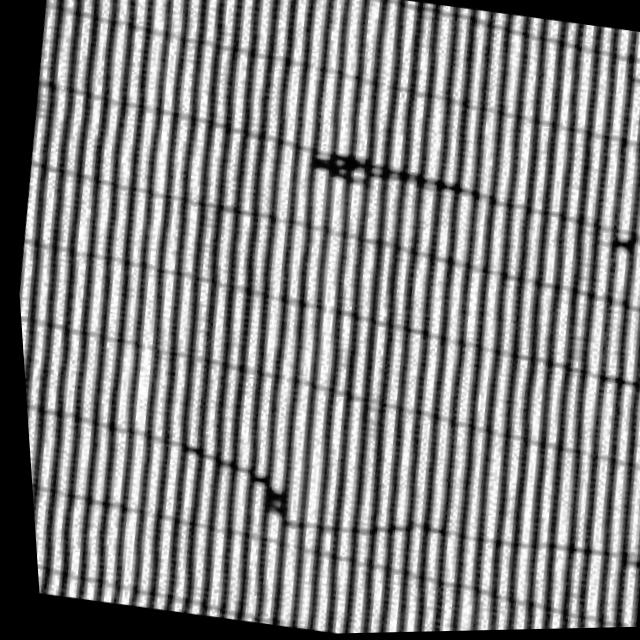Stitch: (276, 107, 515, 231)
